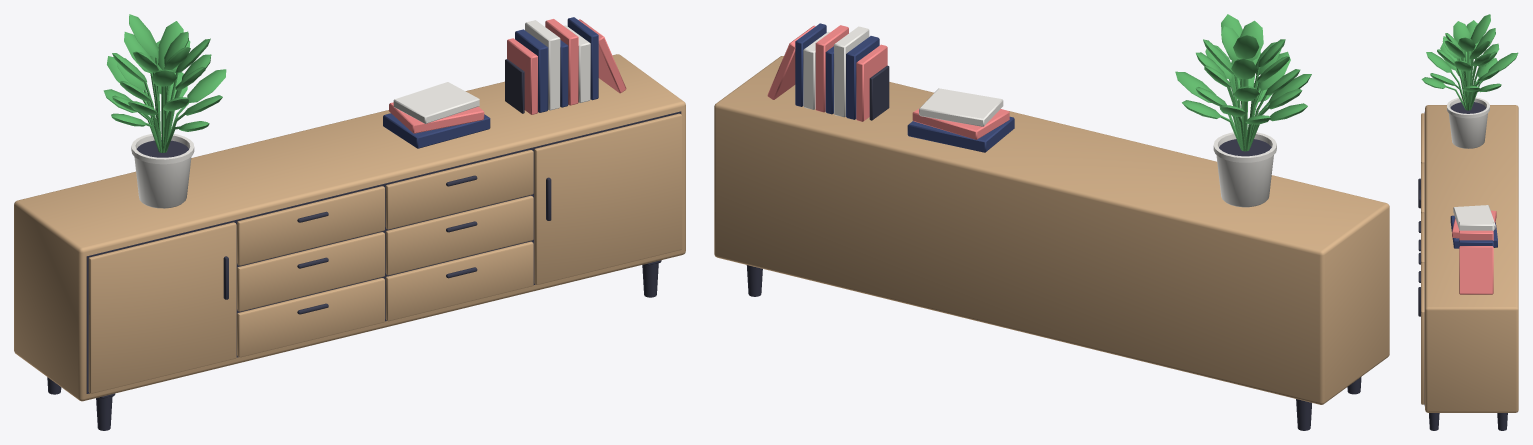
The model's file is credenza.glb.
3 renders of one model, left to right at view 1: azimuth 30°, elevation 25°; view 2: azimuth 150°, elevation 25°; view 3: azimuth 270°, elevation 25°, orthographic. The views are drawn at different scales.
Visible parts, largest first — view 1: oak, leaf, white, charcoal, book_a, book_b; view 2: oak, leaf, white, book_a, book_b, charcoal; view 3: oak, leaf, white, book_a, charcoal, book_b.
Part boxes in pixels (<box>): oak: <box>14,54,685,401</box>; leaf: <box>103,14,226,152</box>; white: <box>131,20,590,208</box>; charcoal: <box>47,59,681,430</box>; book_a: <box>389,19,626,133</box>; book_b: <box>383,17,598,148</box>; oak: <box>714,56,1389,404</box>; leaf: <box>1175,14,1311,151</box>; white: <box>803,26,1276,207</box>; book_a: <box>767,25,1009,139</box>; book_b: <box>795,23,1014,152</box>; charcoal: <box>746,65,1361,430</box>; oak: <box>1421,105,1518,412</box>; leaf: <box>1421,14,1518,110</box>; white: <box>1447,97,1495,230</box>; book_a: <box>1452,210,1496,294</box>; charcoal: <box>1418,102,1507,430</box>; book_b: <box>1450,215,1497,248</box>.
Size of the model in its own units: 2.4 by 1.39 by 0.499.
